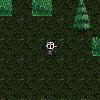Jason: (40, 41, 58, 59)
Obstacle: (71, 16, 92, 37)
Slow: (32, 0, 52, 16), (0, 0, 12, 16), (92, 37, 100, 56)
